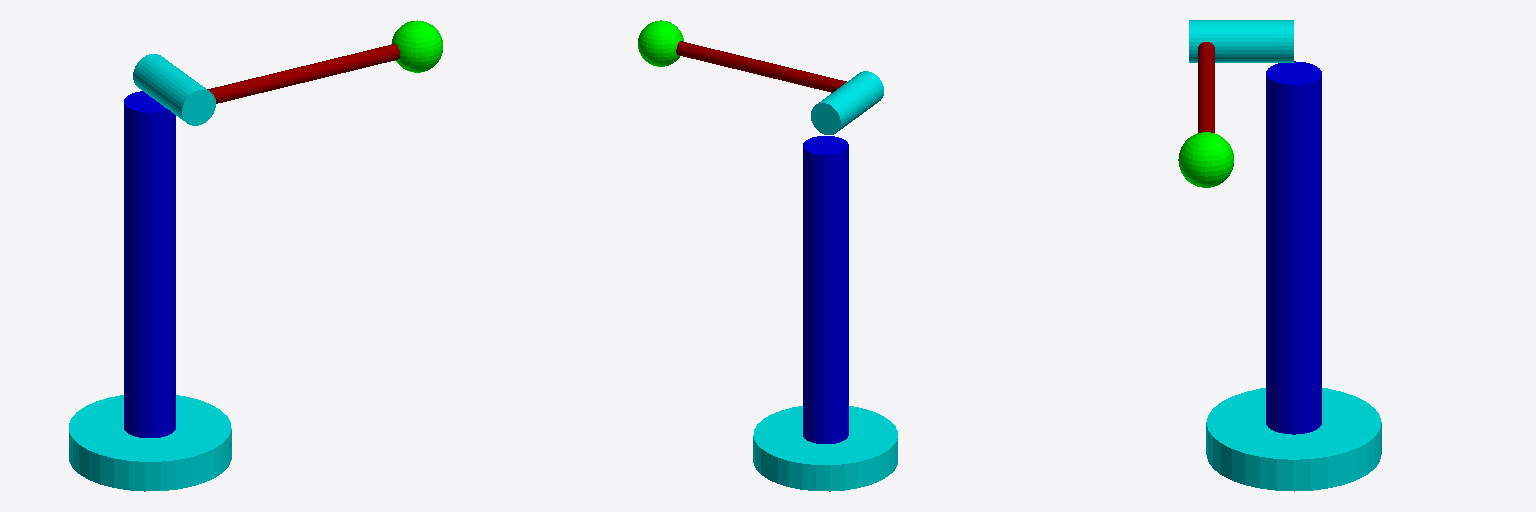
The robot description file, URDF, robot "pend_robot":
<?xml version="1.0"?>
<!--
  Motorised pendulum, tidied version.

  Frame conventions (all link frames are aligned with the world frame when q = 0):
    * the post is vertical, along +z;
    * the motor_joint (shoulder) is at (0, -0.25, 1.3): above the post and 0.25 m to its side,
      so the arm swings in the plane y = -0.25, beside the post and never through it;
    * the joint axis is -y, so a positive angle lifts the arm UP in the x-z plane;
    * at q = 0 the arm points along +x (horizontal).
  The only rpy values in this file are inside <visual>/<inertial> tags. They rotate the
  cylinder shapes (which PyBullet builds along z) so that they lie along x or y.
  They do not change any frame.
-->
<robot name="pend_robot">

  <link name="base_link">
    <visual>
      <origin xyz="0 0 0.05" rpy="0 0 0"/>
      <geometry><cylinder radius="0.25" length="0.1"/></geometry>
      <material name="cyan"><color rgba="0 0.9 0.9 1.0"/></material>
    </visual>
    <inertial>
      <origin xyz="0 0 0.05" rpy="0 0 0"/>
      <mass value="100"/>
      <inertia ixx="10" ixy="0" ixz="0" iyy="10" iyz="0" izz="10"/>
    </inertial>
  </link>

  <link name="body_link">
    <visual>
      <origin xyz="0 0 0.6" rpy="0 0 0"/>
      <geometry><cylinder radius="0.08" length="1.2"/></geometry>
      <material name="blue"><color rgba="0 0 0.9 1.0"/></material>
    </visual>
    <inertial>
      <origin xyz="0 0 0.6" rpy="0 0 0"/>
      <mass value="5"/>
      <inertia ixx="0.6" ixy="0" ixz="0" iyy="0.6" iyz="0" izz="0.05"/>
    </inertial>
  </link>

  <!-- Motor housing: a cylinder along the joint axis (y), from the post to the arm. -->
  <link name="motor_link">
    <visual>
      <origin xyz="0 0.1 0" rpy="1.5707963 0 0"/>
      <geometry><cylinder radius="0.06" length="0.3"/></geometry>
      <material name="cyan"><color rgba="0 0.9 0.9 1.0"/></material>
    </visual>
    <inertial>
      <origin xyz="0 0 0" rpy="0 0 0"/>
      <mass value="1"/>
      <inertia ixx="0.01" ixy="0" ixz="0" iyy="0.01" iyz="0" izz="0.01"/>
    </inertial>
  </link>

  <!-- Arm: 0.8 m long, along +x of its own frame. -->
  <link name="arm_link">
    <visual>
      <origin xyz="0.4 0 0" rpy="0 1.5707963 0"/>
      <geometry><cylinder radius="0.025" length="0.8"/></geometry>
      <material name="red"><color rgba="0.6 0 0 1.0"/></material>
    </visual>
    <inertial>
      <origin xyz="0.4 0 0" rpy="0 0 0"/>
      <mass value="0.5"/>
      <inertia ixx="0.0002" ixy="0" ixz="0" iyy="0.03" iyz="0" izz="0.03"/>
    </inertial>
  </link>

  <!-- Ball at the end of the arm. Its frame origin is exactly the arm tip. -->
  <link name="ball_link">
    <visual>
      <origin xyz="0 0 0" rpy="0 0 0"/>
      <geometry><sphere radius="0.08"/></geometry>
      <material name="green"><color rgba="0 1 0 1"/></material>
    </visual>
    <inertial>
      <origin xyz="0 0 0" rpy="0 0 0"/>
      <mass value="2"/>
      <inertia ixx="0.005" ixy="0" ixz="0" iyy="0.005" iyz="0" izz="0.005"/>
    </inertial>
  </link>

  <joint name="first_joint" type="fixed">
    <parent link="base_link"/>
    <child link="body_link"/>
    <origin xyz="0 0 0" rpy="0 0 0"/>
  </joint>

  <!-- The only moving joint: the shoulder. -->
  <joint name="motor_joint" type="continuous">
    <parent link="body_link"/>
    <child link="motor_link"/>
    <origin xyz="0 -0.25 1.3" rpy="0 0 0"/>
    <axis xyz="0 -1 0"/>
    <dynamics damping="0.05" friction="0.0"/>
  </joint>

  <joint name="arm_fixed" type="fixed">
    <parent link="motor_link"/>
    <child link="arm_link"/>
    <origin xyz="0 0 0" rpy="0 0 0"/>
  </joint>

  <joint name="ball_fixed" type="fixed">
    <parent link="arm_link"/>
    <child link="ball_link"/>
    <origin xyz="0.8 0 0" rpy="0 0 0"/>
  </joint>

</robot>

--- Facts derived from the render (not from the file) ---
3 views of the same robot in one strip: view 1: azimuth 30°, elevation 25°; view 2: azimuth 150°, elevation 25°; view 3: azimuth 270°, elevation 25° (orthographic).
Model pend_robot with 5 links and 4 joints (1 continuous, 3 fixed), rooted at base_link, posed all joints at 0.
Visible links, largest first — view 1: body_link, base_link, motor_link, arm_link, ball_link; view 2: body_link, base_link, motor_link, arm_link, ball_link; view 3: body_link, base_link, motor_link, ball_link, arm_link.
Link boxes in pixels (<box>): body_link: <box>124,91,175,437</box>; base_link: <box>69,395,231,491</box>; motor_link: <box>133,54,215,125</box>; arm_link: <box>207,44,399,103</box>; ball_link: <box>391,20,442,72</box>; body_link: <box>803,136,848,443</box>; base_link: <box>753,406,897,491</box>; motor_link: <box>811,71,883,134</box>; arm_link: <box>676,41,846,92</box>; ball_link: <box>638,20,683,66</box>; body_link: <box>1266,61,1321,434</box>; base_link: <box>1206,388,1381,491</box>; motor_link: <box>1189,20,1293,62</box>; ball_link: <box>1178,132,1233,187</box>; arm_link: <box>1198,42,1214,132</box>.
Bounding box of the posed robot: 1.13 × 0.58 × 1.38 m (x, y, z).
Geometry: primitives only (box / cylinder / sphere), no mesh files.
